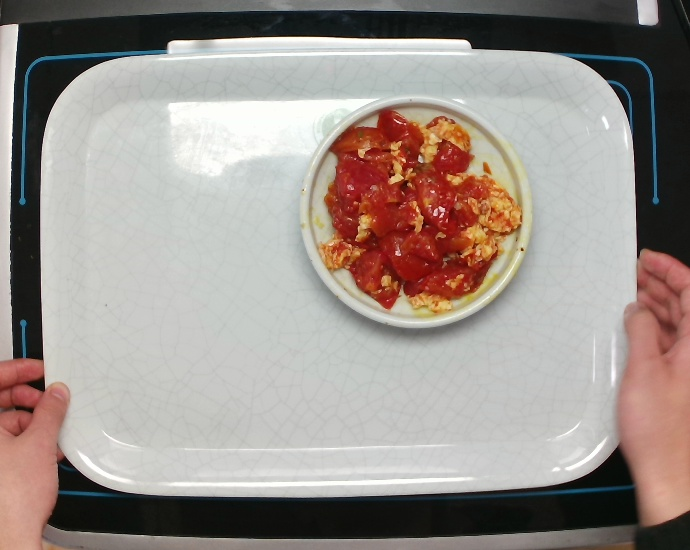JYsf-Xiao_Yuan_Pan: (293, 85, 535, 337)
